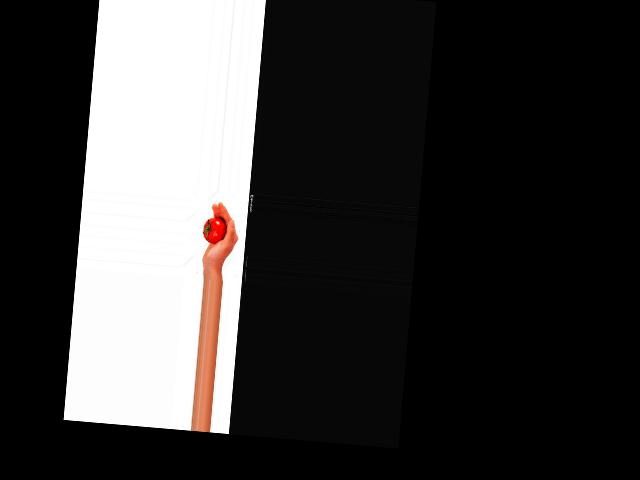tomato: (202, 217, 227, 245)
